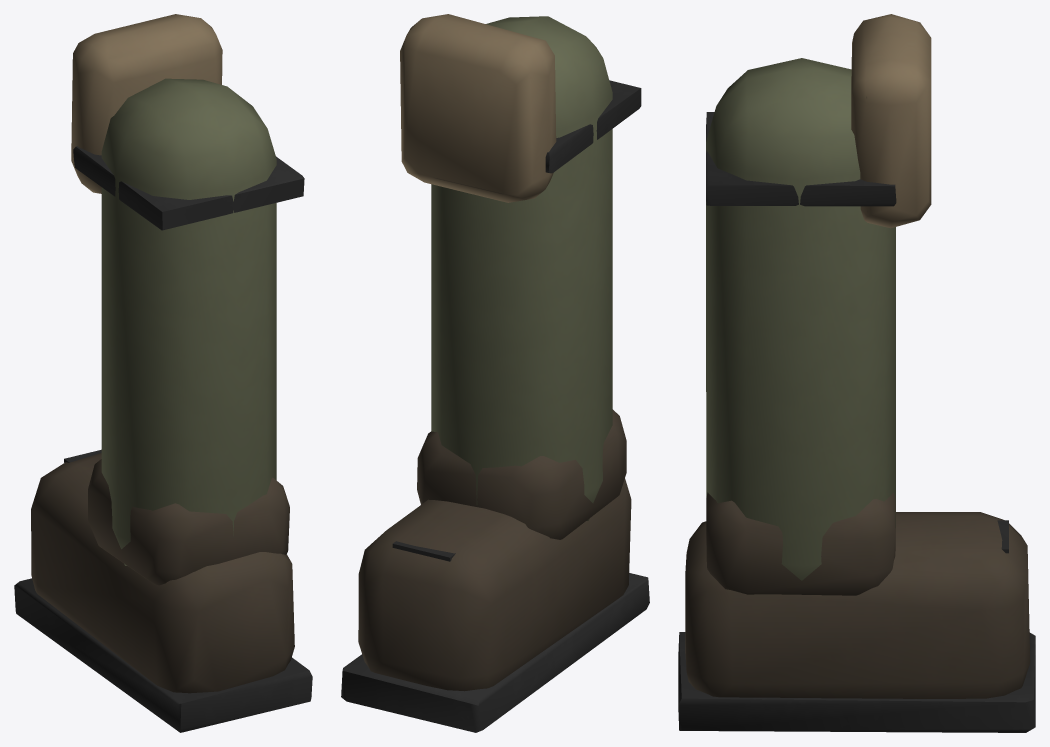
The model's file is SM_OperatorAShin_LOD1.fbx.
3 renders of one model, left to right at view 1: azimuth 30°, elevation 25°; view 2: azimuth 150°, elevation 25°; view 3: azimuth 270°, elevation 25°, orthographic. The views are drawn at different scales.
Parts seen in each view (by area): view 1: SM_OperatorAShin_LOD1; view 2: SM_OperatorAShin_LOD1; view 3: SM_OperatorAShin_LOD1.
Boxes of the visible parts, bbox=[...] form: SM_OperatorAShin_LOD1: bbox=[14, 14, 312, 732]; SM_OperatorAShin_LOD1: bbox=[341, 14, 649, 732]; SM_OperatorAShin_LOD1: bbox=[678, 14, 1035, 732].
Size of the model in its own units: 0.1281 by 0.5247 by 0.2573.
Materials: 1 (1 with a texture image).
